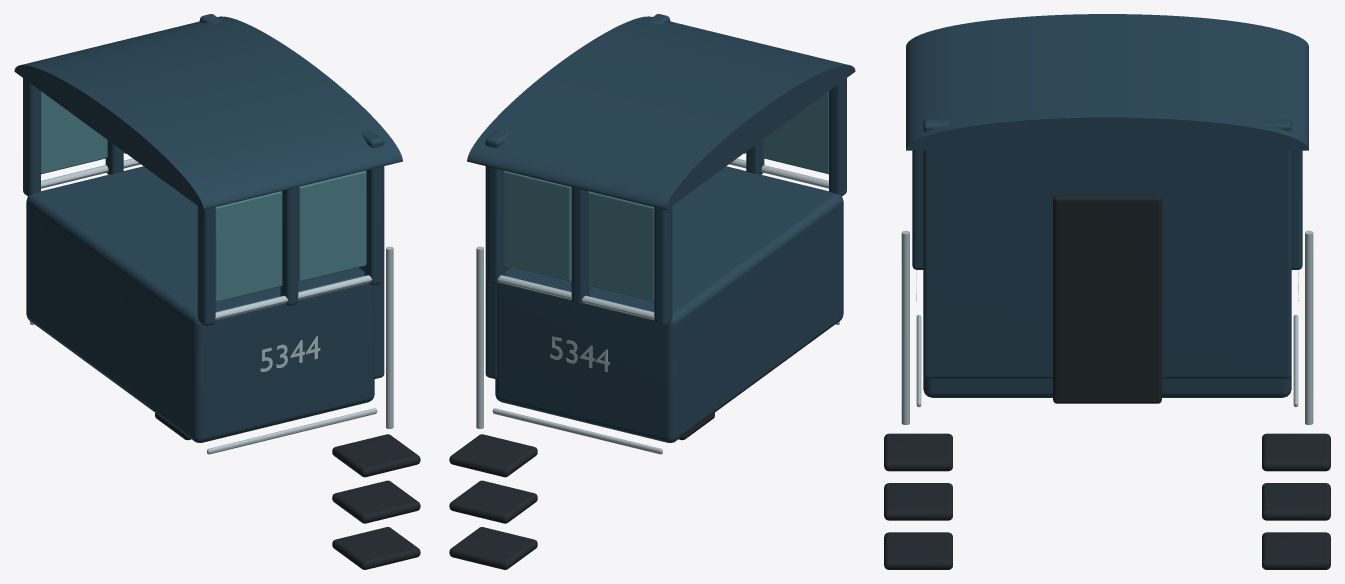
The model's file is cab-and-controls.glb.
The picture shows the model from 3 angles, left to right: view 1: azimuth 30°, elevation 25°; view 2: azimuth 150°, elevation 25°; view 3: azimuth 270°, elevation 25°; orthographic projection. The views are drawn at different scales.
Parts seen in each view (by area): view 1: Cab body, Cab arched roof, Cab glass.001, Cab glass, Cab glass.002, Cab stair.001, Cab stair.002, Cab stair, Cab window pillar, Cab rear wall, Cab window pillar.003, Cab window pillar.002 (+6 smaller); view 2: Cab body, Cab arched roof, Cab glass.003, Cab glass.002, Cab glass, Cab stair.004, Cab stair.005, Cab stair.003, Cab window pillar.003, Cab rear wall, Cab window pillar, Cab window pillar.005 (+6 smaller); view 3: Cab rear wall, Cab arched roof, Cab rear door, Cab body, Cab stair.002, Cab stair.005, Cab stair, Cab stair.001, Cab stair.003, Cab stair.004, Cab handrail, Cab handrail.001 (+2 smaller).
Part boxes in pixels (<box>): Cab body: <box>26,166,374,442</box>; Cab arched roof: <box>14,16,402,209</box>; Cab glass.001: <box>298,170,366,281</box>; Cab glass: <box>215,191,282,302</box>; Cab glass.002: <box>41,91,107,174</box>; Cab stair.001: <box>332,480,420,523</box>; Cab stair.002: <box>332,434,420,477</box>; Cab stair: <box>332,527,420,569</box>; Cab window pillar: <box>197,206,215,325</box>; Cab rear wall: <box>199,14,384,379</box>; Cab window pillar.003: <box>23,78,40,196</box>; Cab window pillar.002: <box>364,166,382,285</box>; Cab body: <box>495,166,843,442</box>; Cab arched roof: <box>467,16,855,209</box>; Cab glass.003: <box>503,170,571,281</box>; Cab glass.002: <box>587,191,654,302</box>; Cab glass: <box>762,91,828,174</box>; Cab stair.004: <box>449,480,537,523</box>; Cab stair.005: <box>449,434,537,477</box>; Cab stair.003: <box>449,527,537,569</box>; Cab window pillar.003: <box>654,206,672,325</box>; Cab rear wall: <box>485,14,670,379</box>; Cab window pillar: <box>829,78,846,196</box>; Cab window pillar.005: <box>487,166,505,285</box>; Cab rear wall: <box>923,119,1291,378</box>; Cab arched roof: <box>906,14,1308,150</box>; Cab rear door: <box>1053,195,1161,403</box>; Cab body: <box>923,375,1291,397</box>; Cab stair.002: <box>884,433,952,471</box>; Cab stair.005: <box>1262,433,1330,471</box>; Cab stair: <box>884,532,952,569</box>; Cab stair.001: <box>884,483,952,520</box>; Cab stair.003: <box>1262,532,1330,569</box>; Cab stair.004: <box>1262,483,1330,520</box>; Cab handrail: <box>901,230,909,424</box>; Cab handrail.001: <box>1305,230,1313,424</box>.
Bounding box in the file's own units: 1.41 × 2.73 × 2.46.
